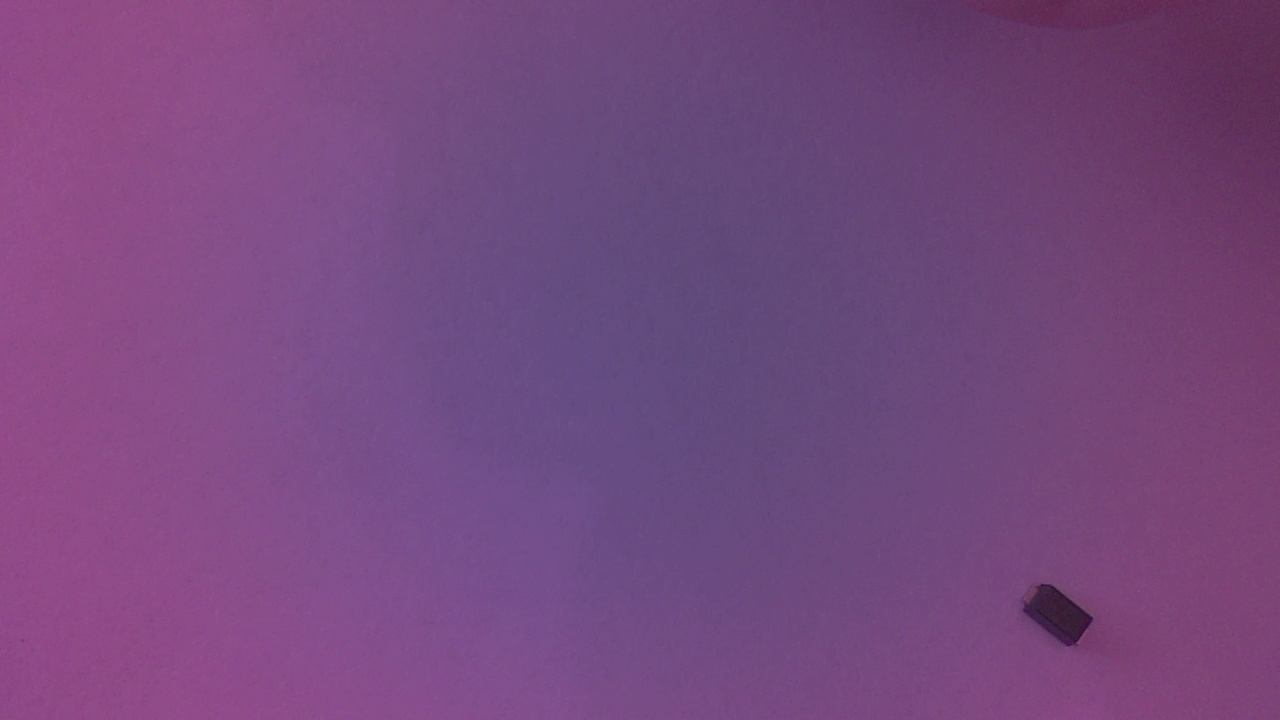Diode: (1023, 582, 1102, 657)
